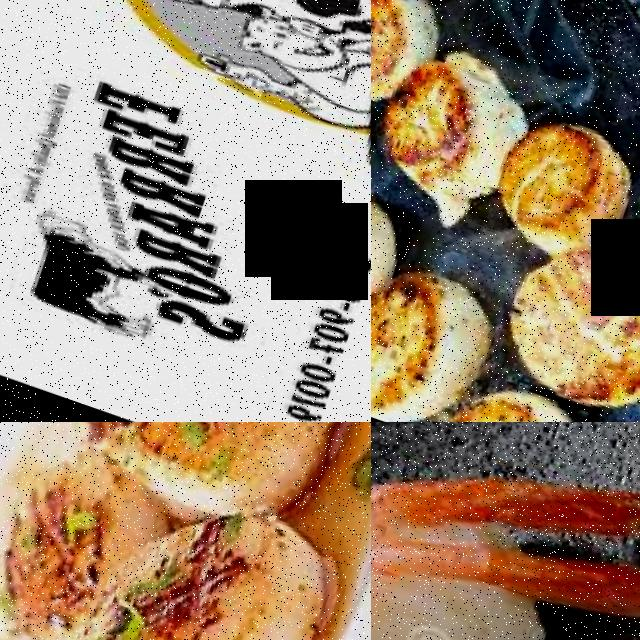sea scallops: (67, 484, 340, 640), (489, 230, 640, 421), (371, 49, 532, 223), (112, 422, 360, 532), (371, 256, 502, 422), (494, 102, 640, 242), (371, 0, 429, 112)
